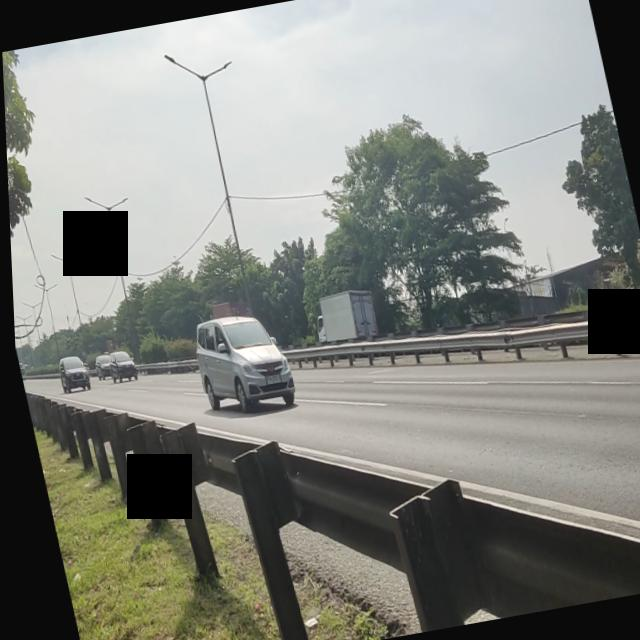Golongan I: (179, 296, 299, 430)
